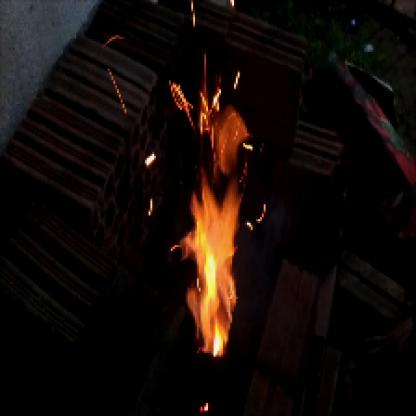Fire: (171, 76, 256, 359)
